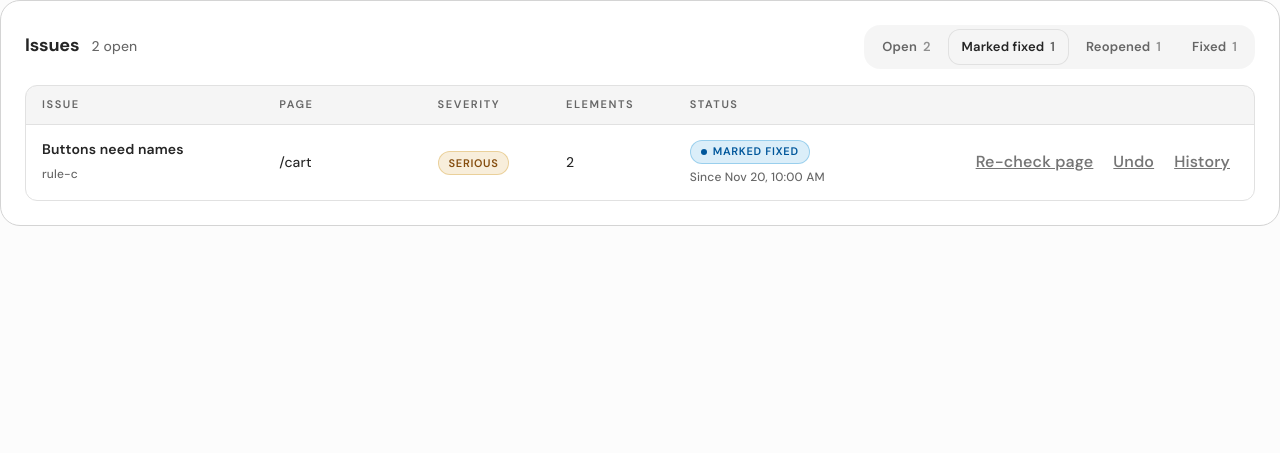
Scenario: IssueTracker › offers re-check and undo for a marked issue, and shows its note in history
The width and height of the screenshot is (1280, 453).
Click the button with aria-label "History: Buttons need names on /cart": x=1202, y=162 x1=1166 y1=140 x2=1238 y2=184
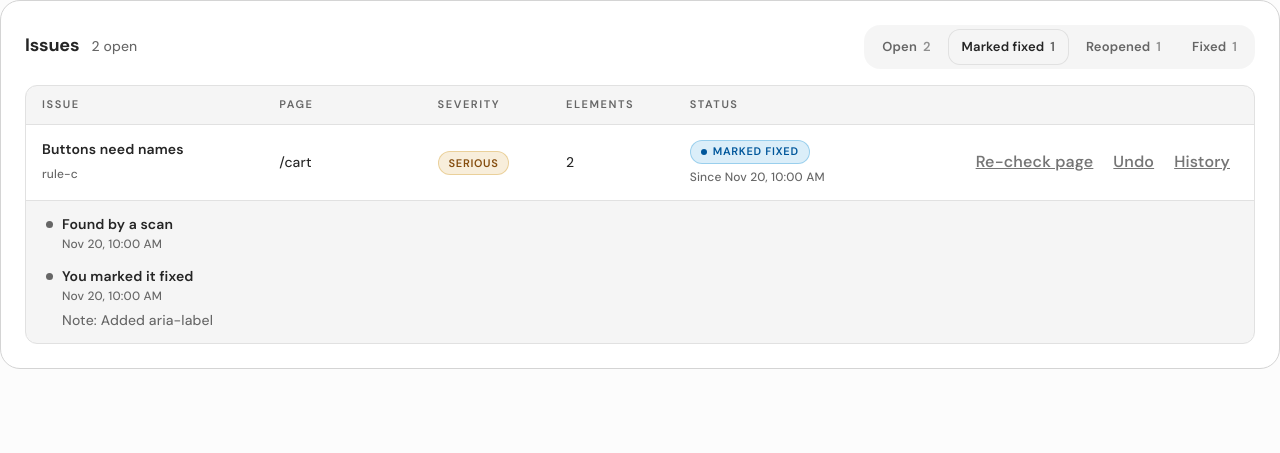
Check: the text "Note: Added aria-label" is shown, box x1=62 y1=311 x2=213 y2=329
Click the button with aria-label "Re-check /cart now": x=1034, y=162 x1=968 y1=140 x2=1101 y2=184
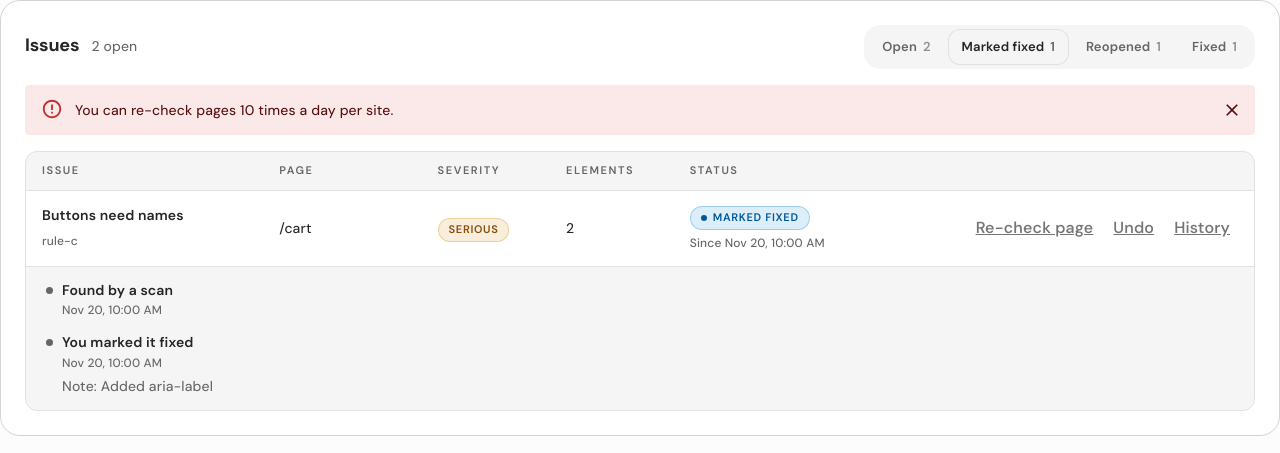
Check: the button with aria-label "Undo fixed mark: Buttons need names on /cart" is enabled, box x1=1105 y1=206 x2=1162 y2=250
Check: the text "You can re-check pages 10 times a day per site." is shown, box x1=75 y1=101 x2=394 y2=119
